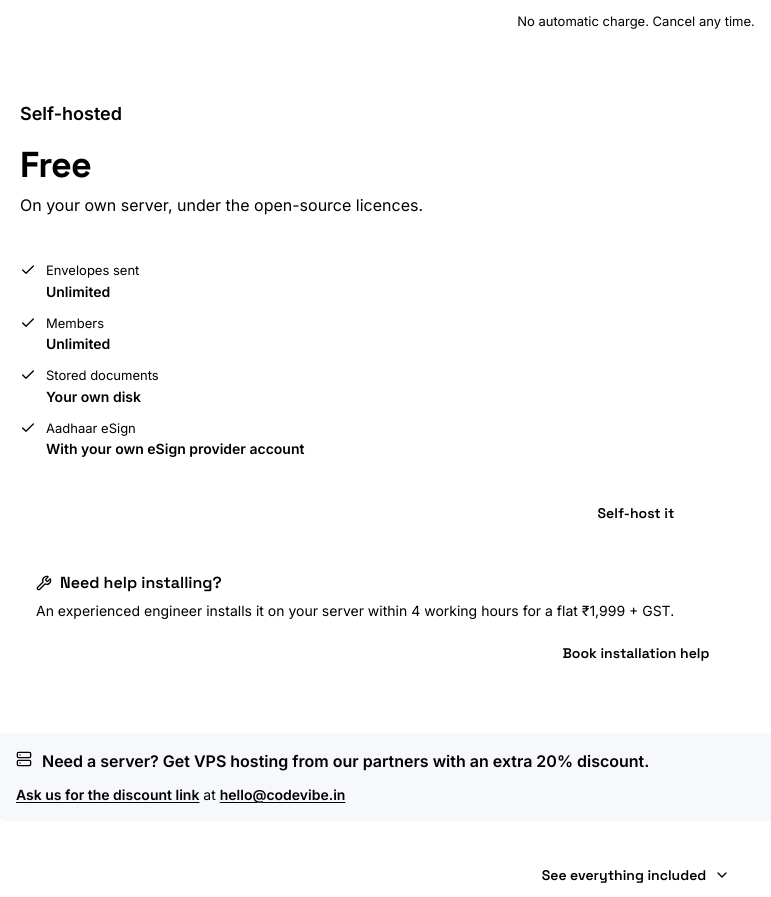
Test case: PricingPlans › opens the full comparison on request
(page scrolled)
Click the button "See everything included" at (636,875), box x1=522 y1=853 x2=750 y2=896
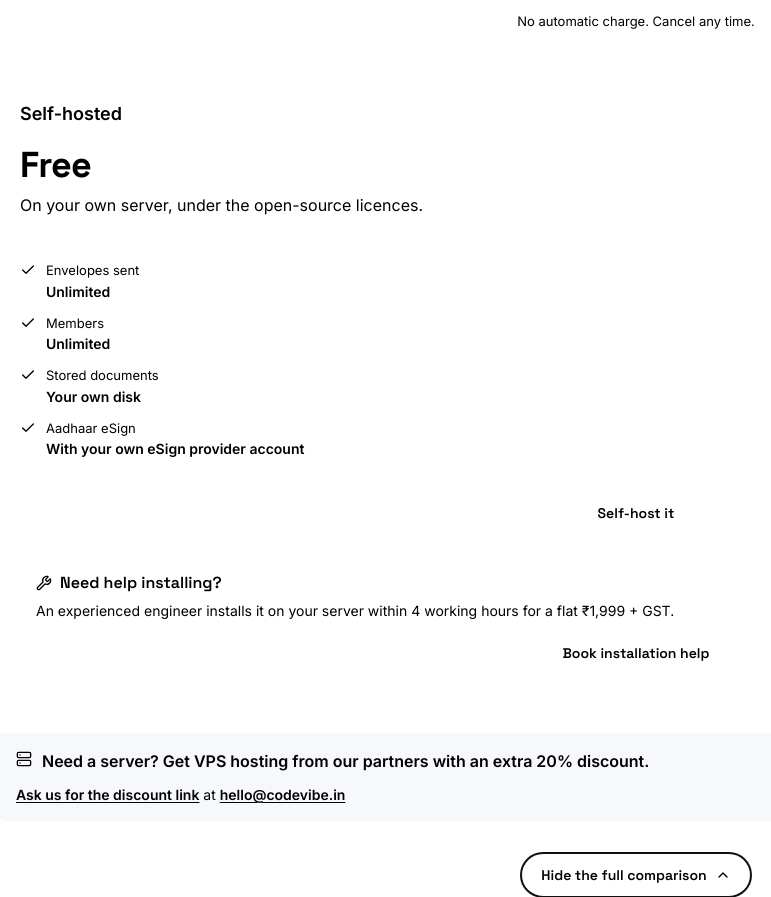
Now the button named "See everything included" is expanded, box x1=521 y1=853 x2=751 y2=896
